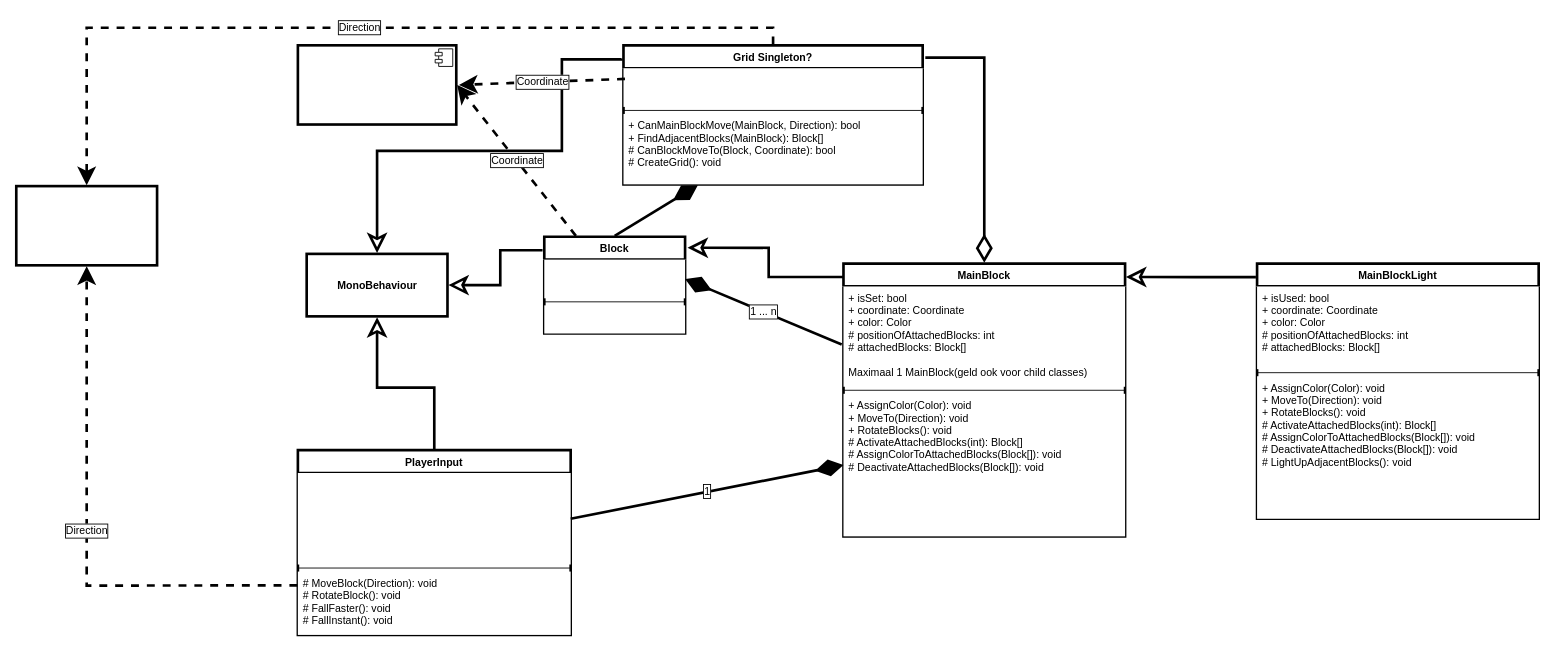
Some shapes in this 1555 by 653 pixel diagram are drawn without their labels. The centre of each missing label's shape, as x and y in pixels:
"# allBlocks: Dictionary(Block, Coordinate) # blockPrefab: GameObject" belongs at point (772, 87).
"# mainBlock: MainBlock # blockFallSpeedMultiplier: int" belongs at point (433, 518).
"+ AssignColor(Color): void" belongs at point (614, 319).
"+ isSet: bool + coordinate: Coordinate" belongs at point (614, 278).
"Coordinate: struct + xCoordinate: int + yCoordinate: int" belongs at point (376, 84).
"Direction: enum Down Right Left" belongs at point (86, 225).
